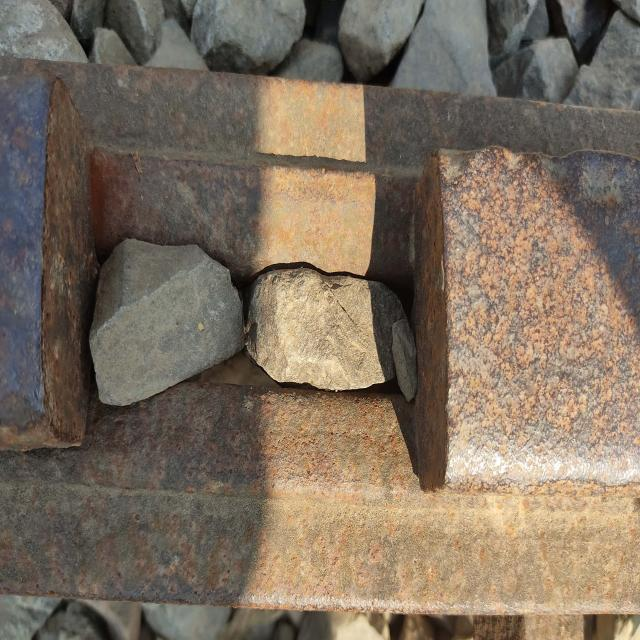broken_rail_high: (20, 59, 513, 512)
